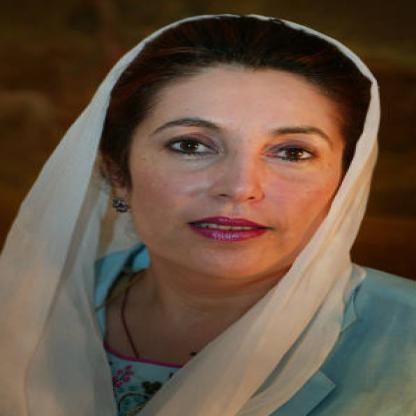face: (124, 26, 361, 283)
